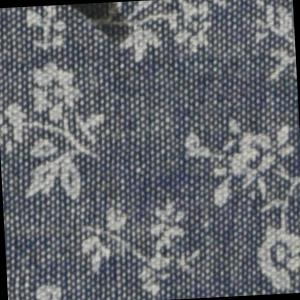Stain: (62, 1, 148, 50)
